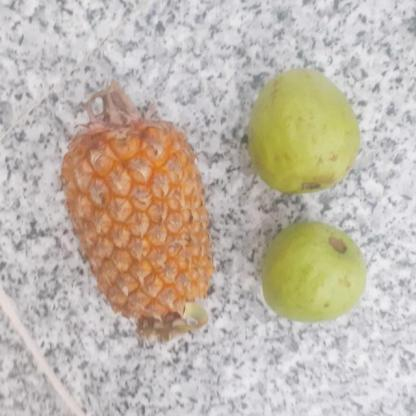guava: (245, 68, 368, 193), (261, 224, 373, 322)
pear: (262, 223, 372, 322)
pineapple: (61, 119, 216, 340)
